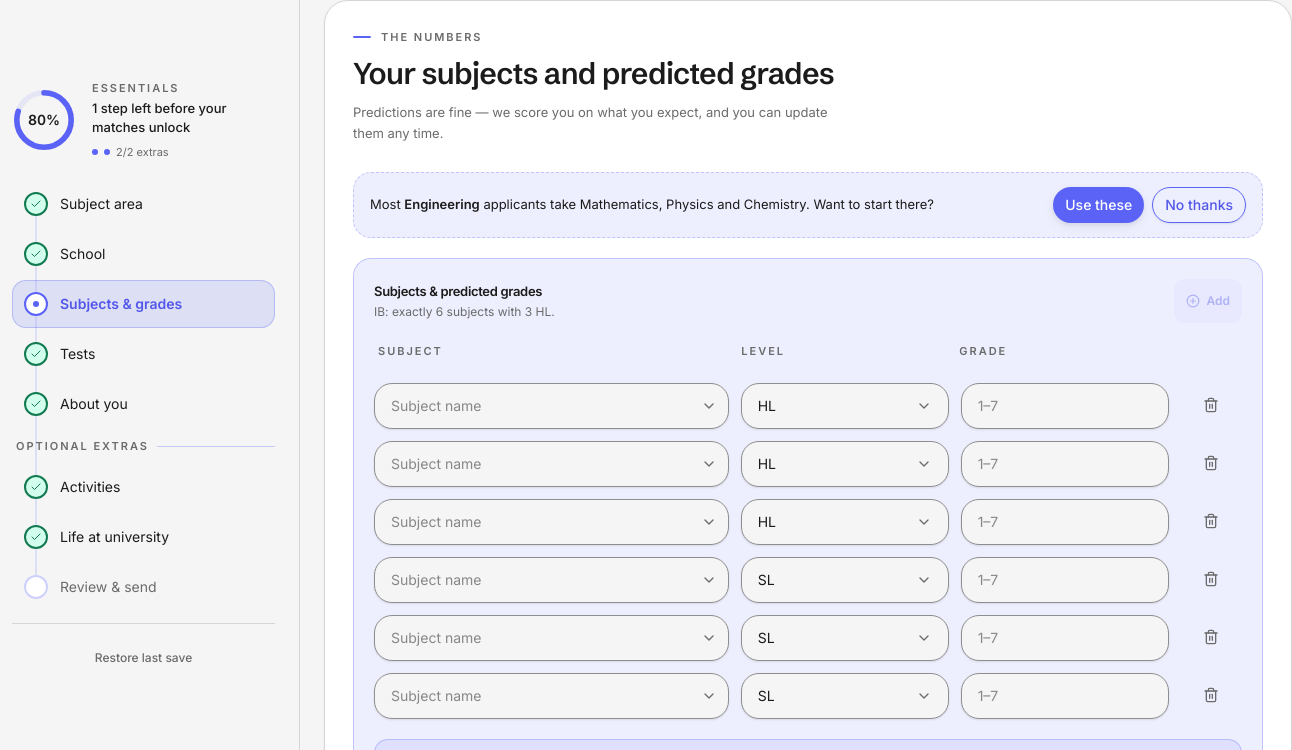
Test: the subject suggestion › fills the subject NAMES and leaves the grades empty
This screenshot has width=1292, height=750.
What coordinates should you click on to do the following:
click the button "Use these"
I would click on:
 (1099, 205)
Its box is [1053,187,1144,223].
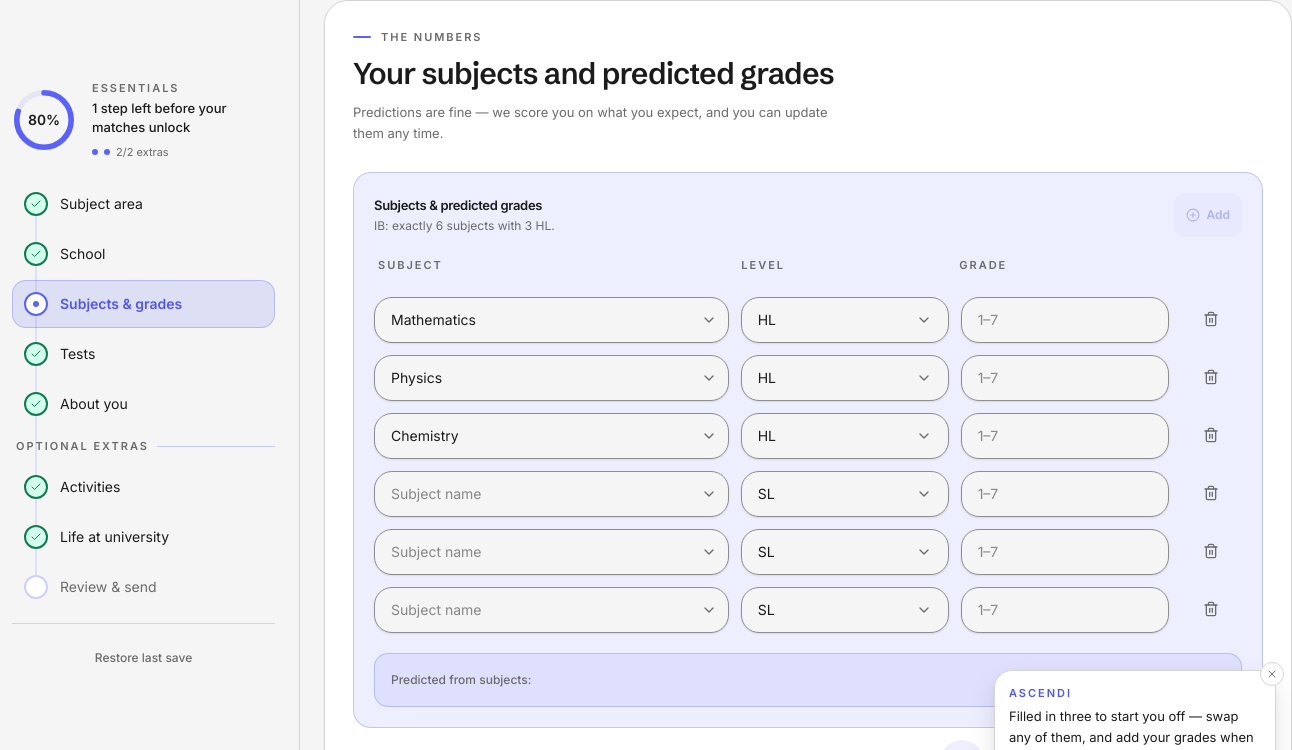
Expected: the 1st number field with placeholder "1–7" is not empty, [961,297,1169,343]
Now the 1st dropdown with placeholder "Subject name" holds "Mathematics", box [374,297,729,343]
